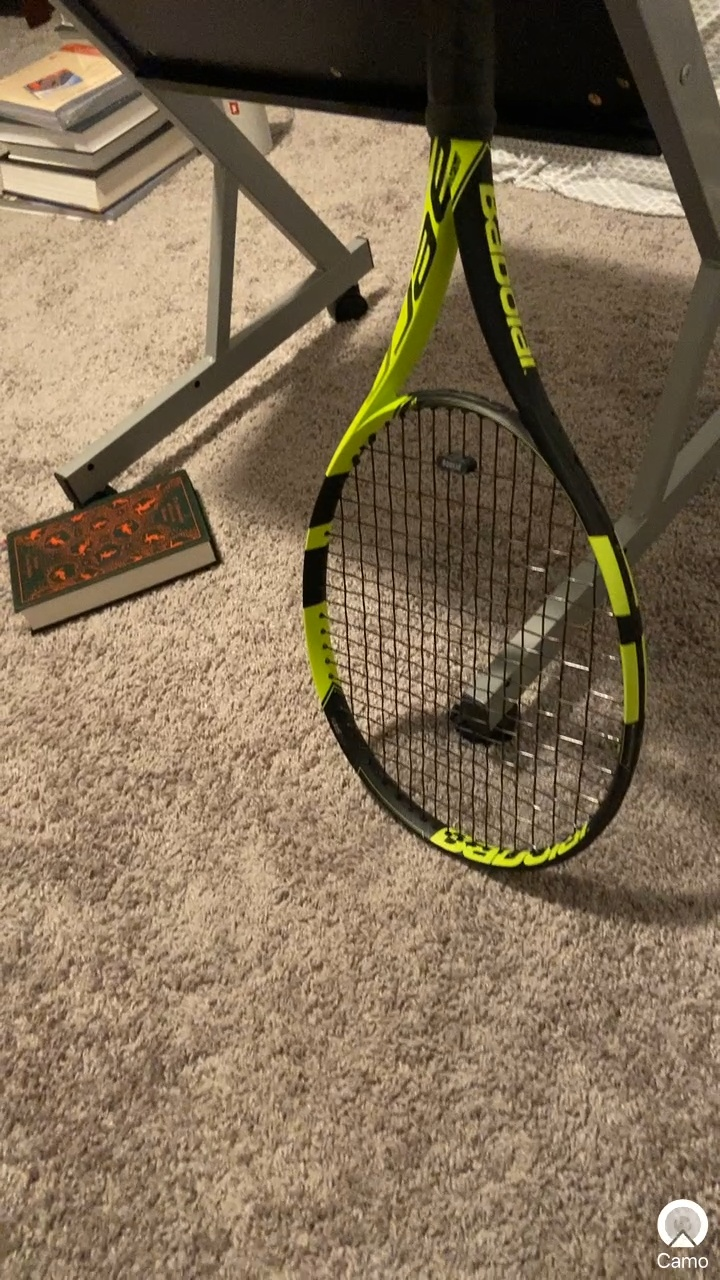Tennis_Racquet: (290, 1, 666, 899)
